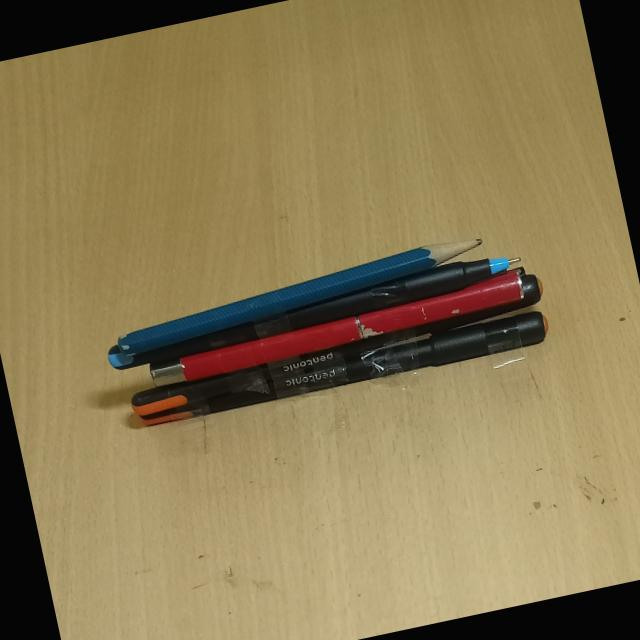pen: (134, 290, 551, 435)
pencil: (100, 221, 496, 340)
